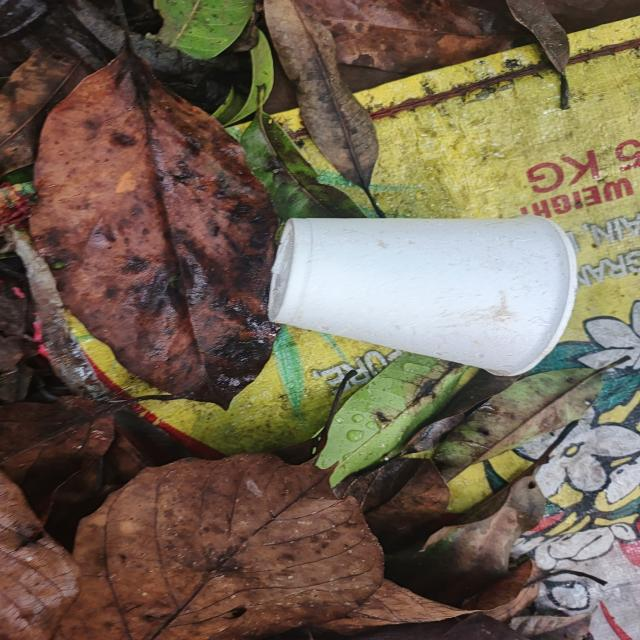plastic: (243, 192, 618, 402)
